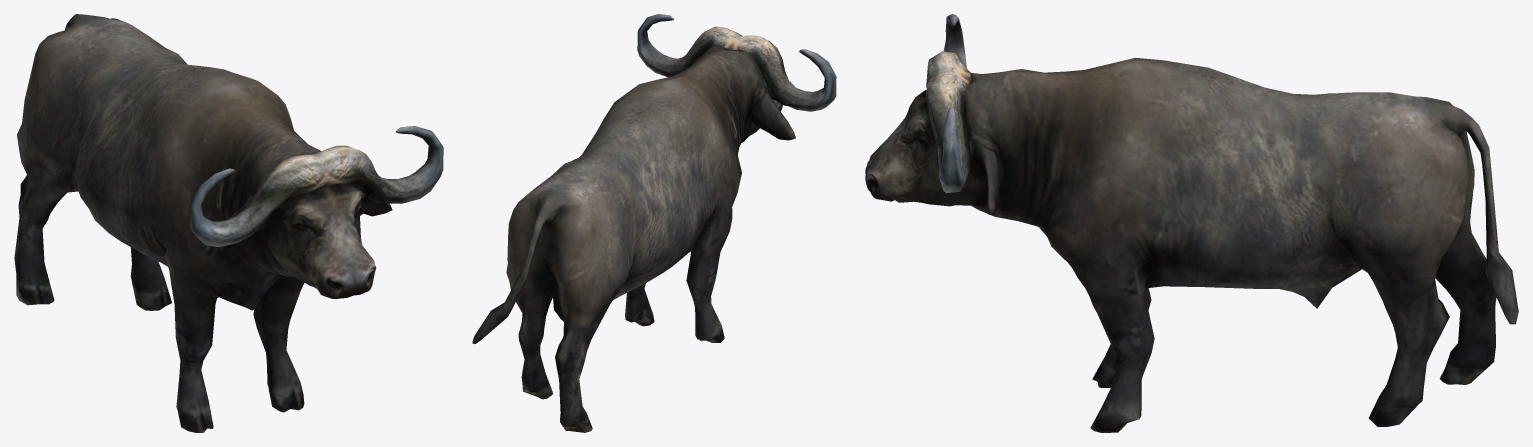
File: water_buffalo.glb
The picture shows the model from 3 angles, left to right: view 1: azimuth 30°, elevation 25°; view 2: azimuth 150°, elevation 25°; view 3: azimuth 270°, elevation 25°; orthographic projection. The views are drawn at different scales.
Visible parts, largest first — view 1: water_buffalo; view 2: water_buffalo; view 3: water_buffalo.
Part boxes in pixels (x1,y1,x2,y2): water_buffalo: (14, 14, 443, 432); water_buffalo: (472, 14, 836, 432); water_buffalo: (865, 14, 1518, 432).
Bounding box in the file's own units: 1.22 × 1.5 × 2.6.
1 material, 1 textured.
